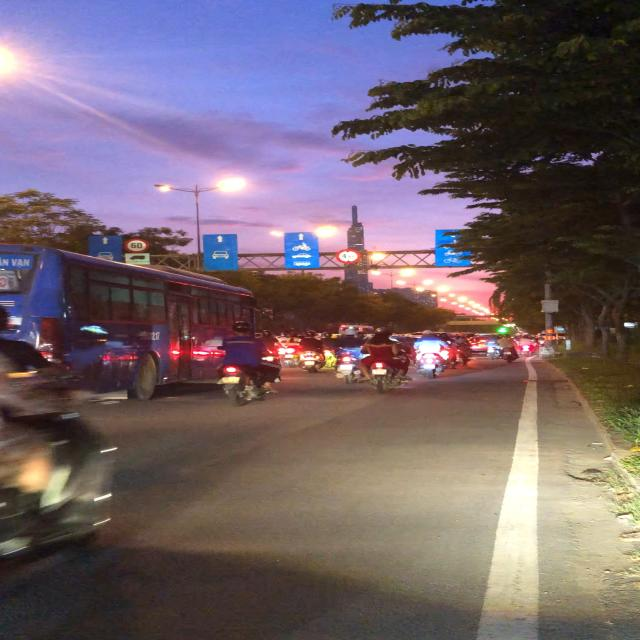Bien bao han che chieu cao: (334, 247, 365, 265)
Bien bao toc do toi da cho phep: (122, 236, 148, 251)
